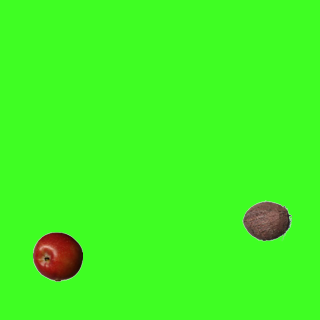Apple Braeburn: (32, 231, 82, 281)
Cocos: (241, 195, 291, 245)
